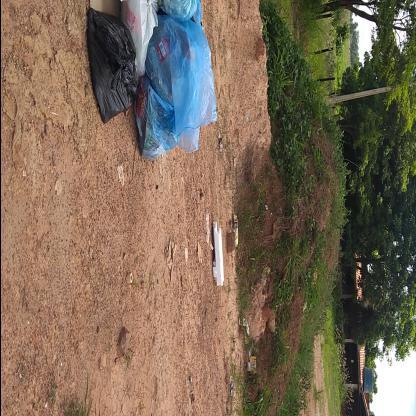lixo: (86, 7, 216, 143)
